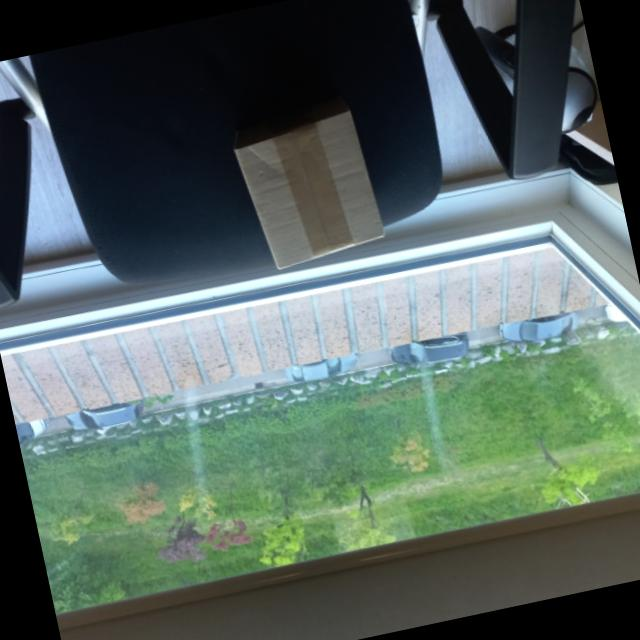box: (221, 82, 394, 282)
